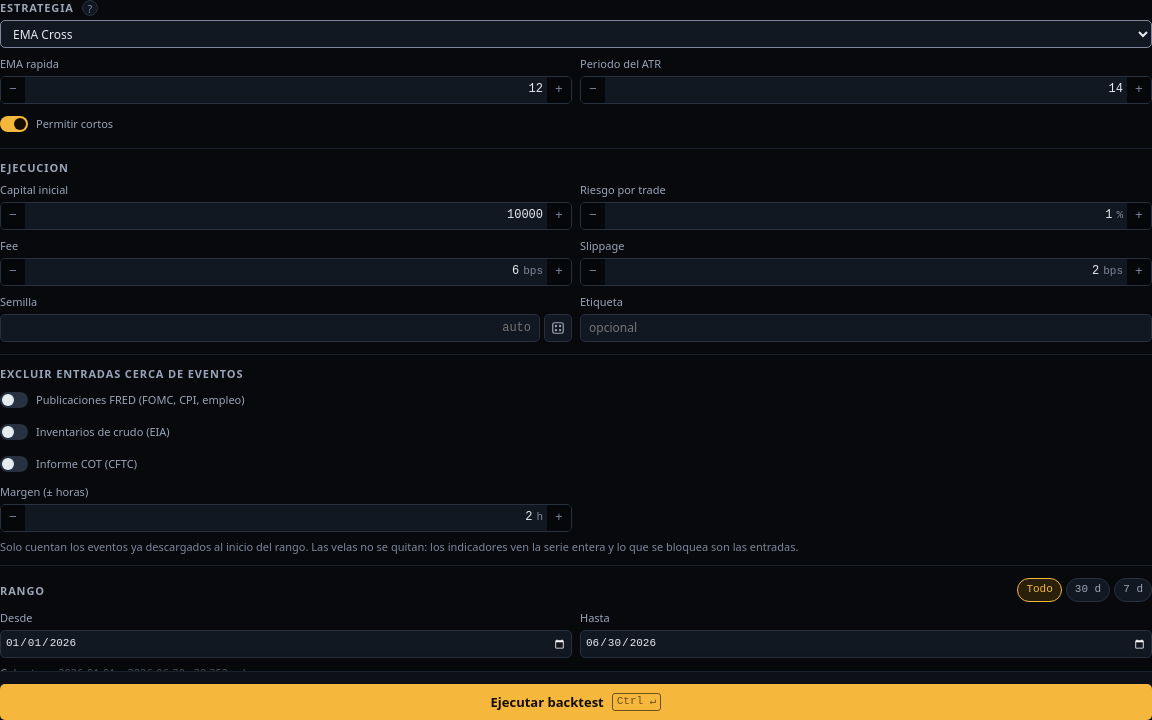
Scenario: StrategyPanel › un valor fuera de rango da error inline y deshabilita el boton
The width and height of the screenshot is (1152, 720).
expect the button "Ejecutar backtest Ctrl ↵" is enabled: met, box [0,684,1151,719]
Replace the text in the number field labelled "EMA rapida" with "999" at (286, 90), box [25,77,547,103]
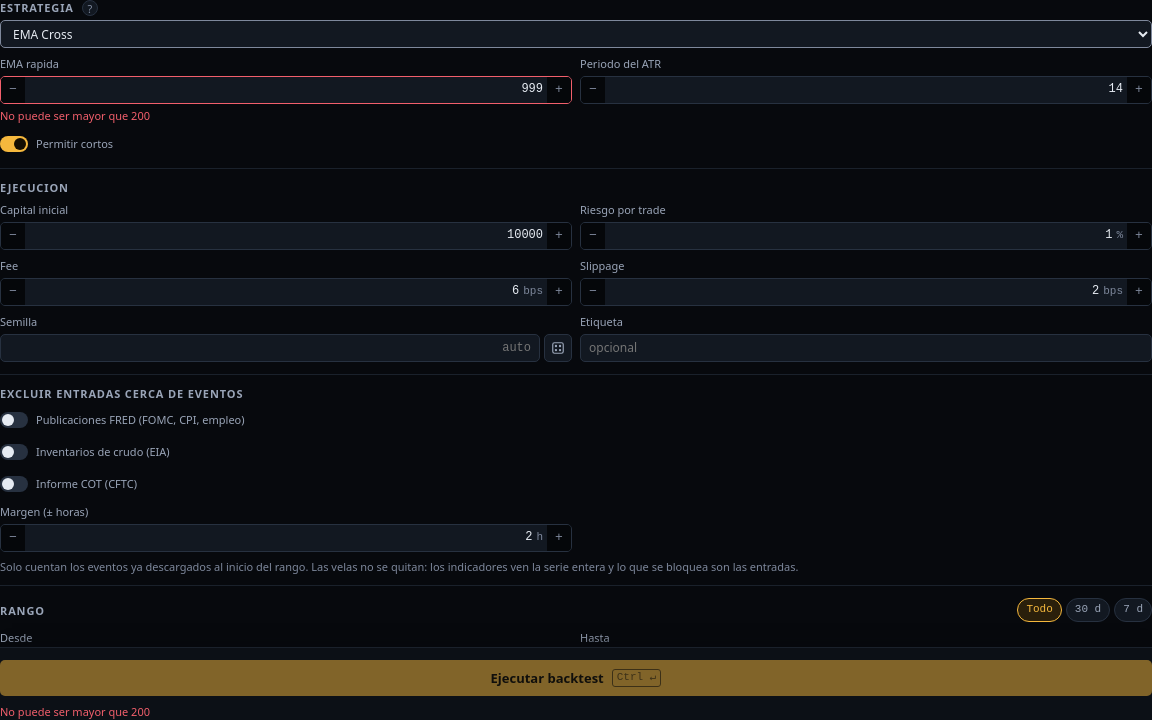
expect the button "Ejecutar backtest Ctrl ↵" is disabled: met, box [0,660,1151,696]
expect the text "No puede ser mayor que 200" is shown: met, box [0,108,150,123]
